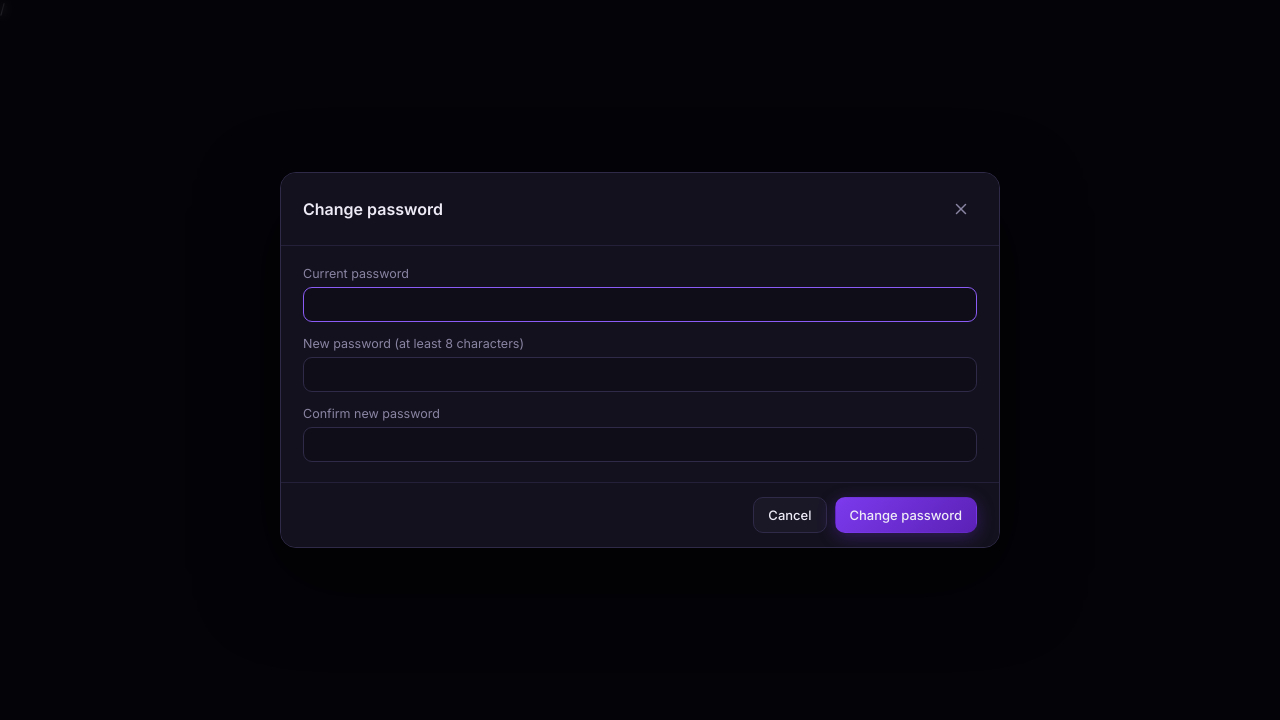
Test: ChangePasswordDialog › empty fields: validation blocks the request
Click the button "Change password".
click(906, 515)  # box left=834, top=497, right=977, bottom=533
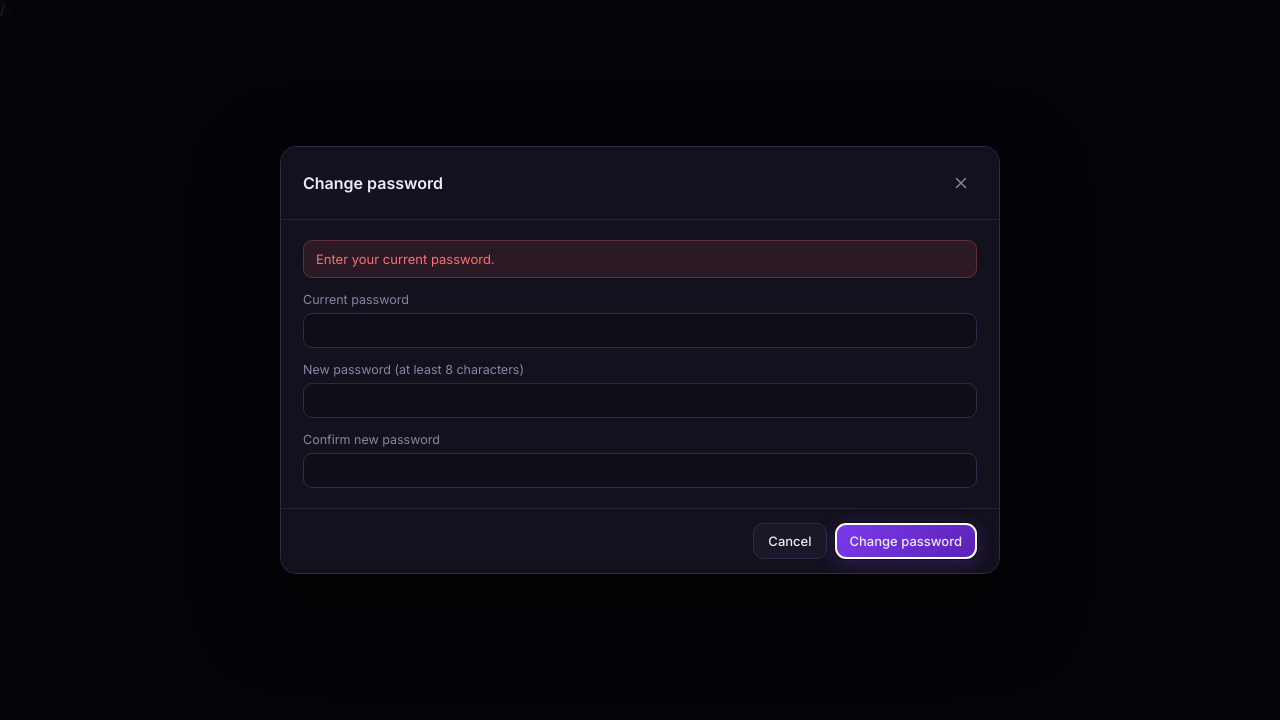
Expected: the message reads "Enter your current password.", left=316, top=251, right=495, bottom=267
